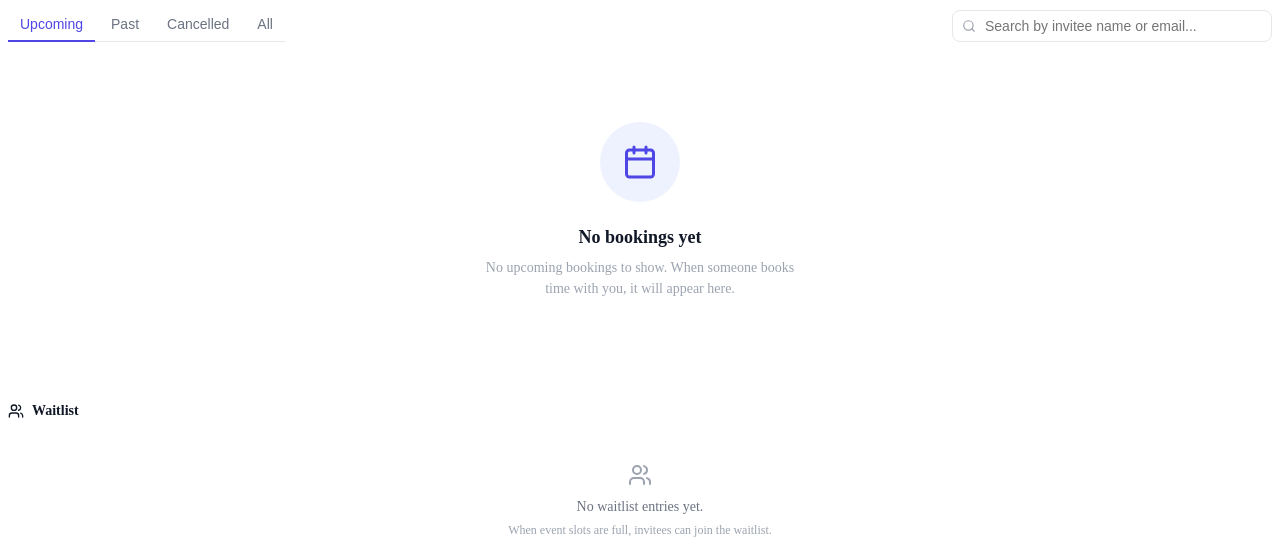
BookingsPage › switches to Cancelled tab and shows cancelled bookings
Click the button "Cancelled". click: point(198, 25)
box: [155, 8, 241, 42]
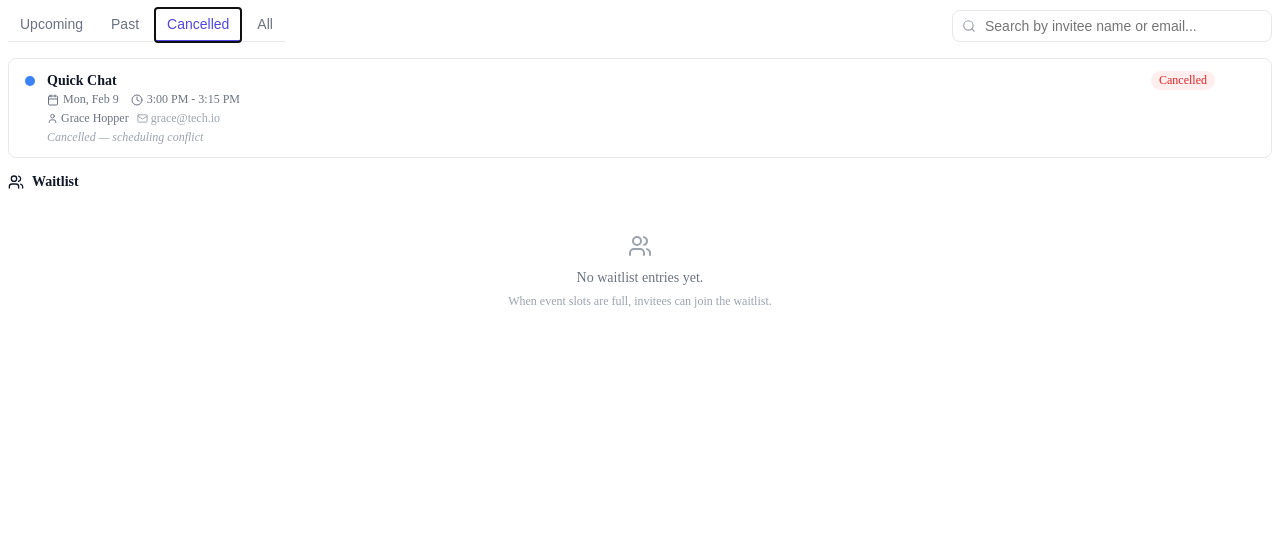
Expected: the text "Grace Hopper" is shown, [47, 111, 129, 126]
